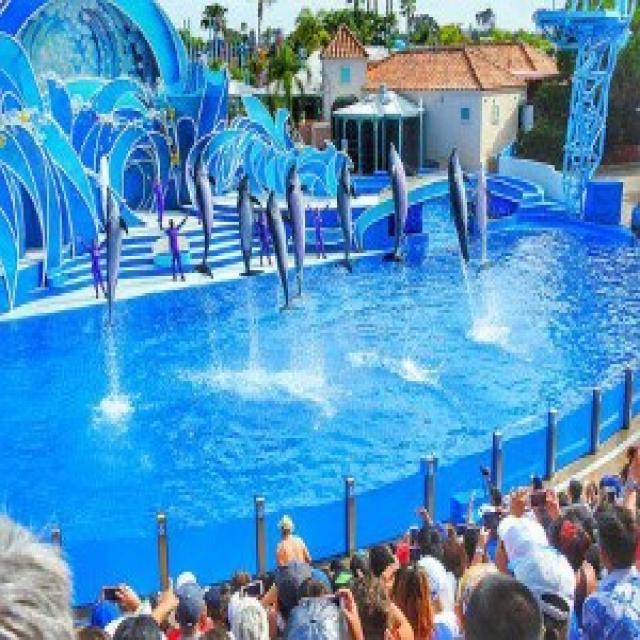Dolphin: (99, 172, 128, 337), (184, 153, 220, 278), (383, 136, 409, 272), (262, 178, 284, 326), (333, 154, 358, 272), (289, 156, 309, 299), (237, 156, 258, 288), (446, 148, 469, 268)
